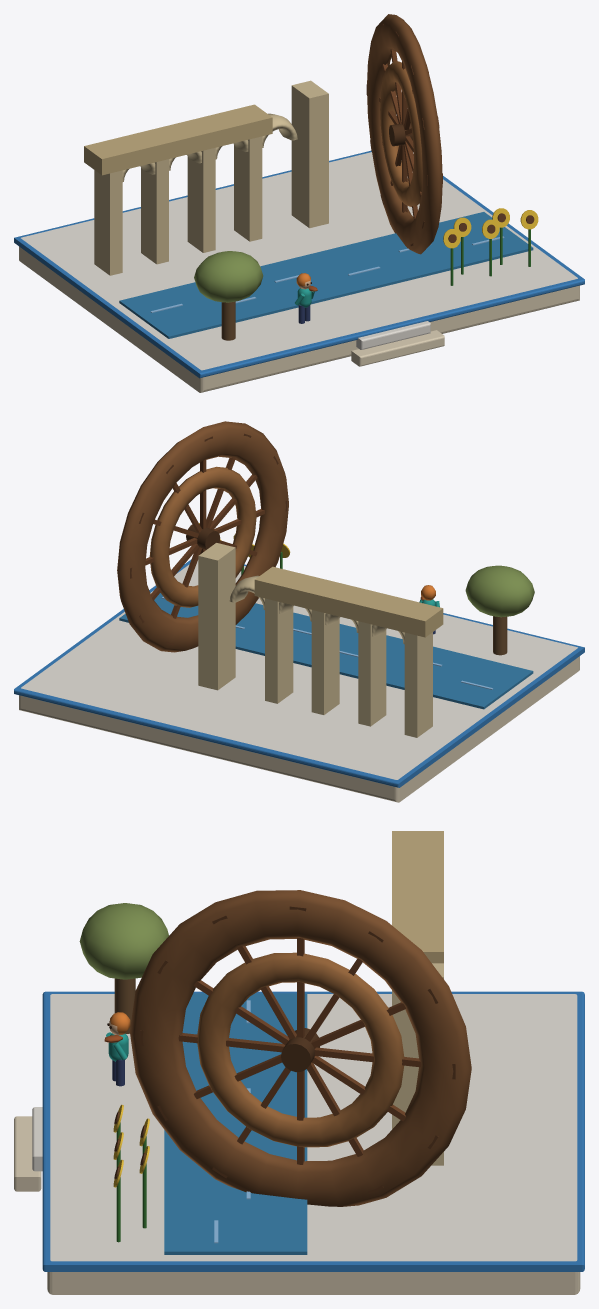
The model's file is noria.glb.
3 renders of one model, top to bottom at view 1: azimuth 30°, elevation 25°; view 2: azimuth 150°, elevation 25°; view 3: azimuth 270°, elevation 25°, orthographic. The views are drawn at different scales.
Visible parts, largest first — view 1: part_000, part_002; view 2: part_000, part_002; view 3: part_000, part_002.
Part boxes in pixels (x1=…): part_000: x1=14, y1=80, x2=584, y2=392; part_002: x1=366, y1=14, x2=442, y2=254; part_000: x1=14, y1=523, x2=584, y2=802; part_002: x1=117, y1=421, x2=288, y2=652; part_000: x1=14, y1=831, x2=584, y2=1294; part_002: x1=129, y1=890, x2=471, y2=1206.
Bounding box in the file's own units: 9.94 × 5.81 × 8.78.
